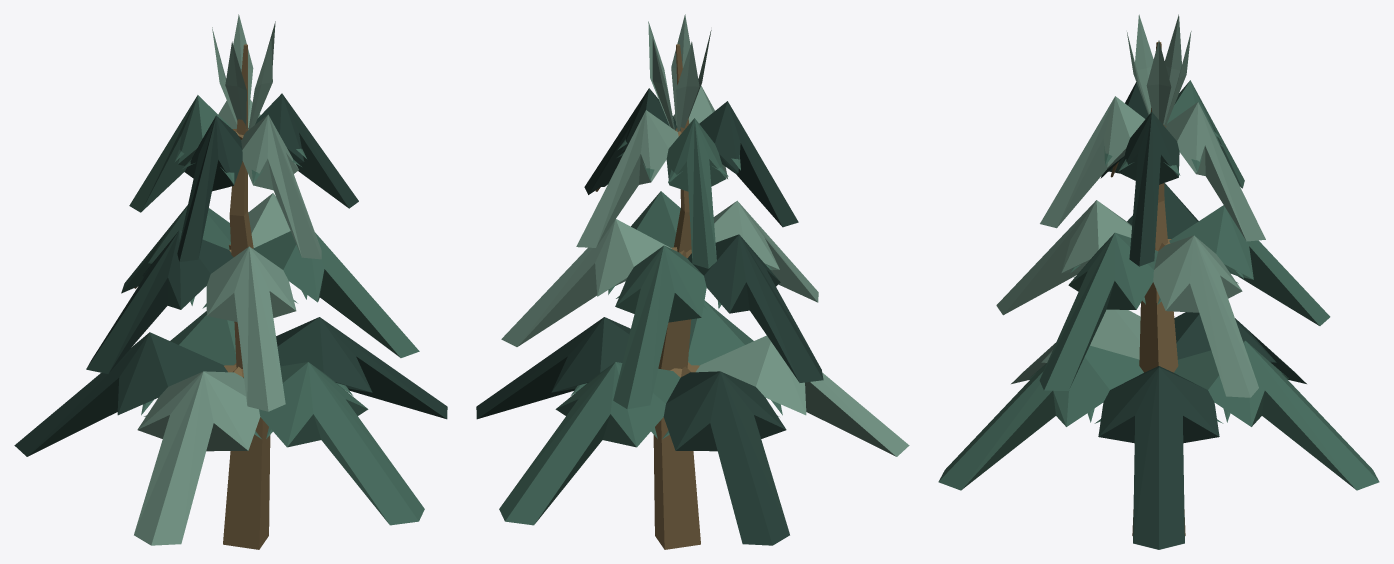
File: ALPINE_DWARF_PINE.lo.glb
3 renders of one model, left to right at view 1: azimuth 30°, elevation 25°; view 2: azimuth 150°, elevation 25°; view 3: azimuth 270°, elevation 25°, orthographic.
Parts seen in each view (by area): view 1: ALPINE_DWARF_PINE; view 2: ALPINE_DWARF_PINE; view 3: ALPINE_DWARF_PINE.
Boxes of the visible parts, x1,y1,x2,y2 form: ALPINE_DWARF_PINE: (14,14,447,549); ALPINE_DWARF_PINE: (476,14,909,549); ALPINE_DWARF_PINE: (938,14,1379,549).
Bounding box in the file's own units: 0.6828 × 0.9122 × 0.7133.
Materials: 1 (1 with a texture image).
